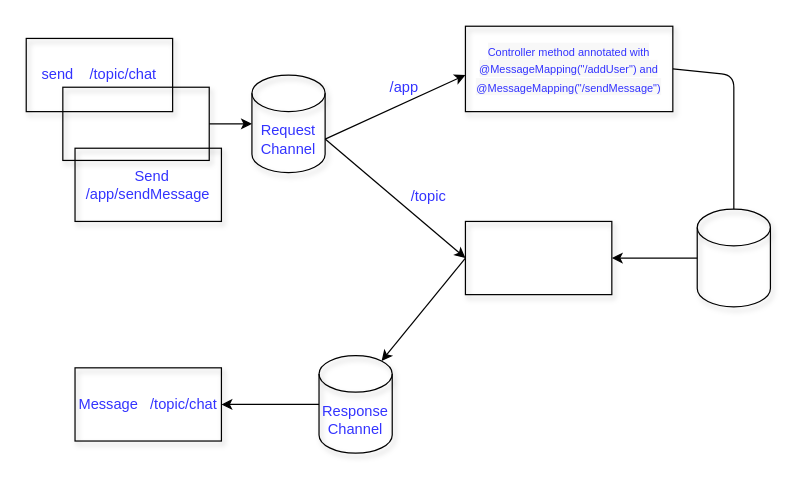
This 799x483 diagram has some shape labels left out. The shapes that lost their labels are listed below. From the top down, each one's centre as x and y in pixels, then its label:
At point 137,125: "send /app/addUser".
At point 539,259: "Simple broker".
At point 734,259: "Broker Channel".
